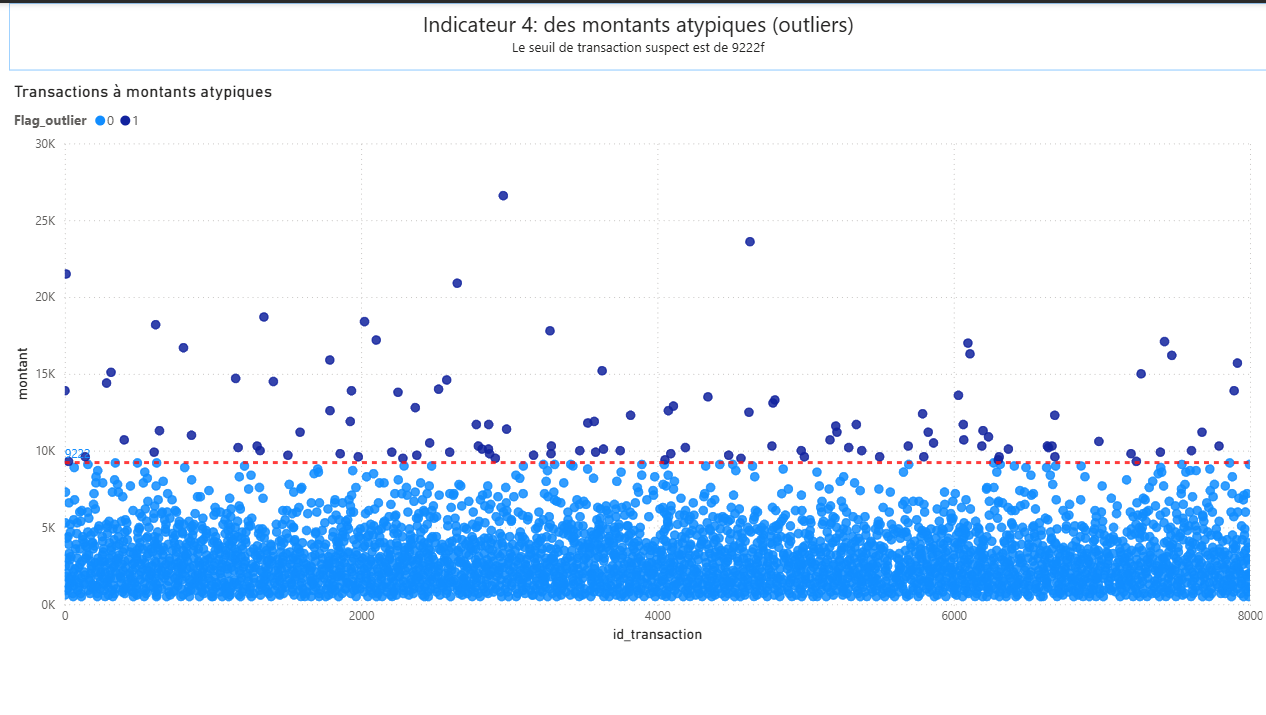

The dashboard page shown, as its layout file describes it:
{"tool":"powerbi","page":{"name":" Indicateur_4","canvas":[1280,720],"ordinal":5},"visuals":[{"type":"textbox","box":[9.5,0,1271.1,67.9],"z":0},{"type":"scatterChart","title":"Transactions à montants atypiques","fields":{"X":["dataset_fraude_benin.id_transaction"],"Y":["dataset_fraude_benin.montant"],"Series":["dataset_fraude_benin.Flag_outlier"]},"box":[9.1,78.7,1270.4,570.9],"z":1}]}

Visuals, with their boxes in screenshot pixels (x1, y1, x2, y2), scaled from the page's 1280x720 canvas onto the 1266x715 screenshot:
textbox: {"x1": 9, "y1": 0, "x2": 1265, "y2": 67}
"Transactions à montants atypiques" scatterChart: {"x1": 9, "y1": 78, "x2": 1265, "y2": 645}
